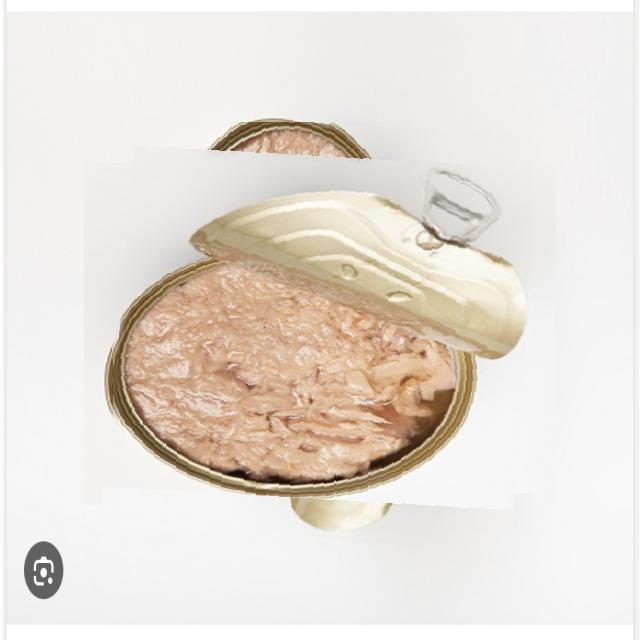recyclable: (109, 122, 532, 545)
